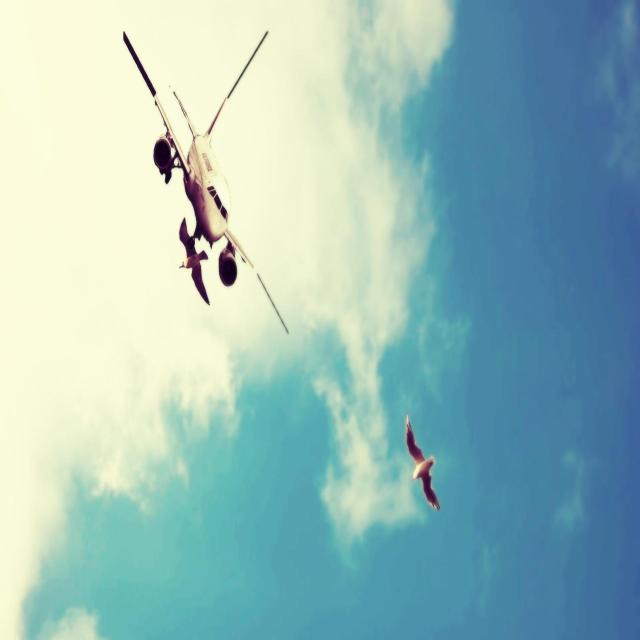airplane: (122, 27, 290, 334)
